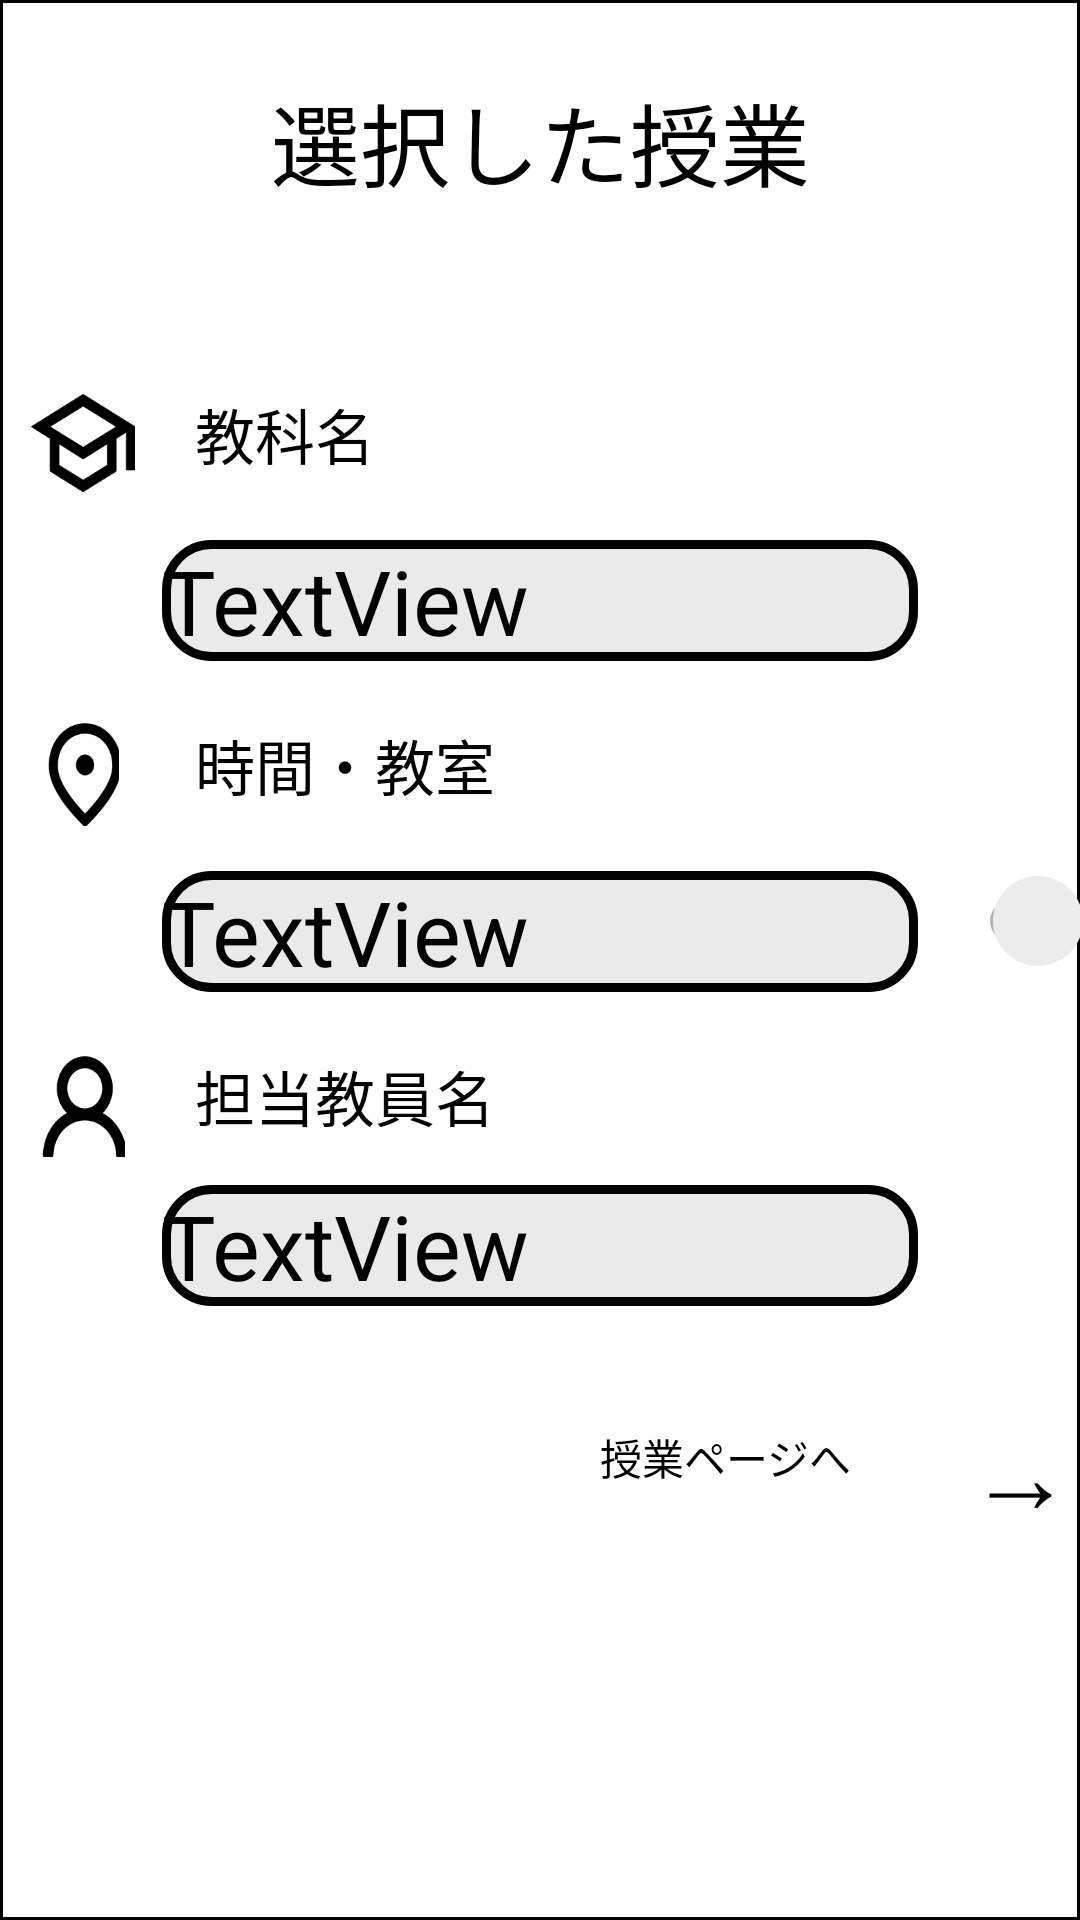

Icon bounding boxes for this 1080 x 1920 phone screenshot, format [x1=x1, y1=y1, x2=x2, y2=y2]:
class name: [x1=31, y1=394, x2=135, y2=492]
class room: [x1=48, y1=723, x2=119, y2=826]
professor name: [x1=42, y1=1056, x2=125, y2=1157]
